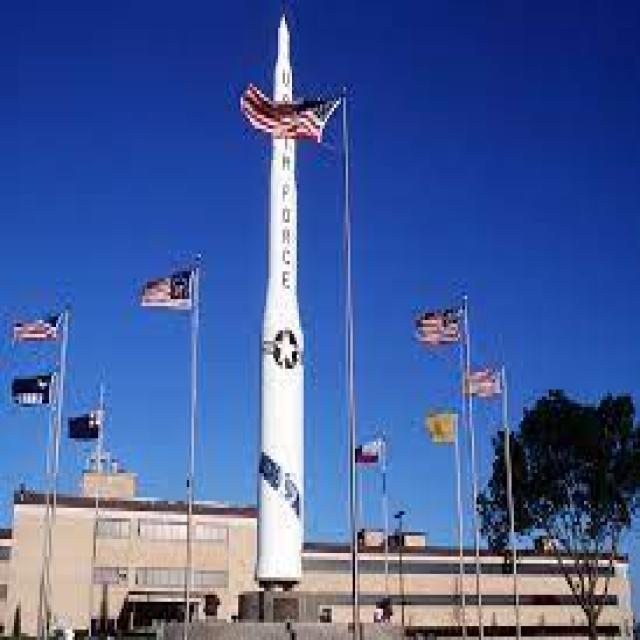missile: (252, 17, 314, 595)
